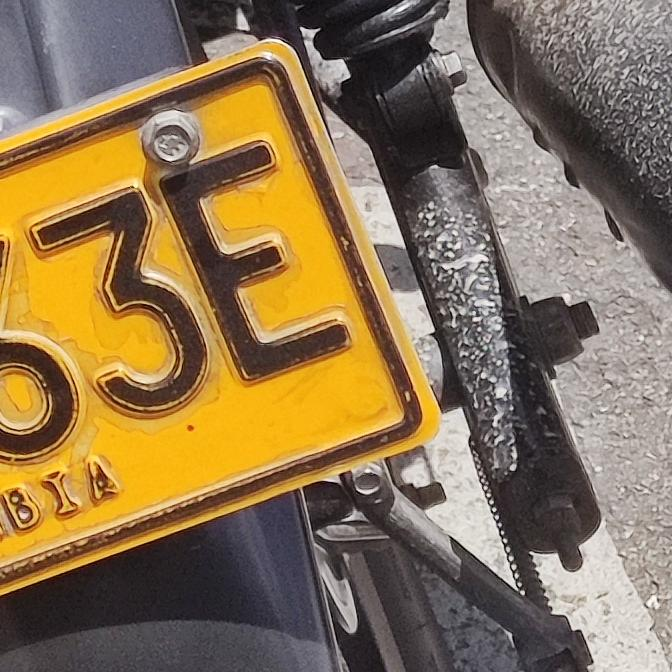plates: (0, 39, 443, 597)
